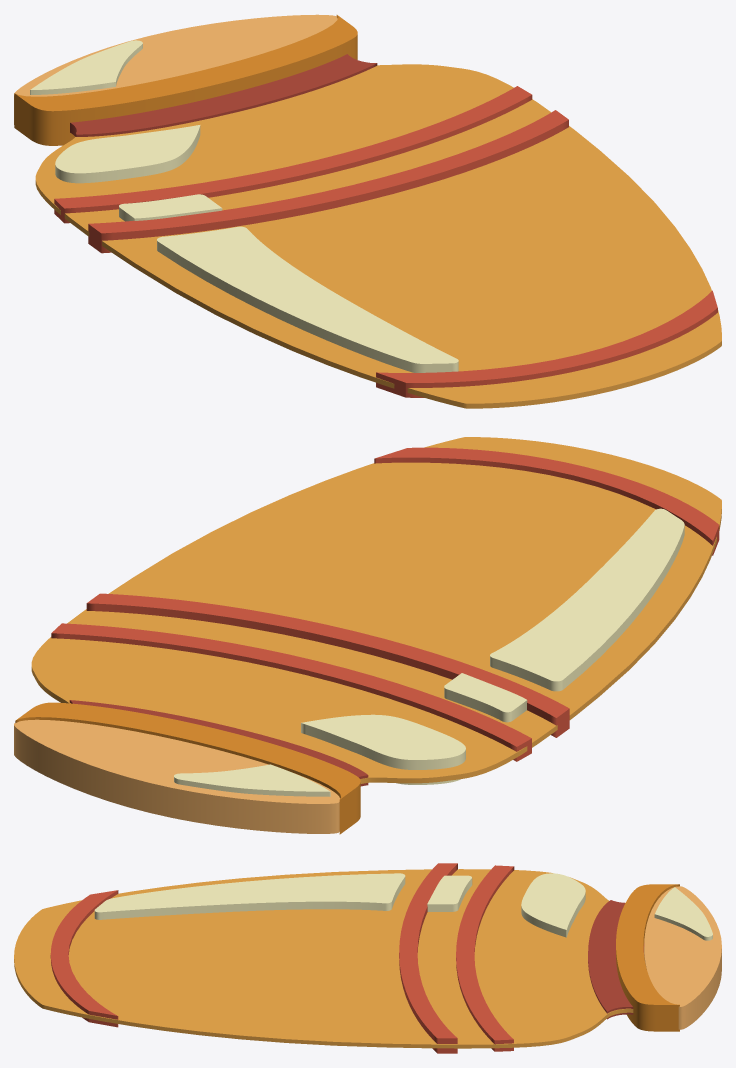
File: emoji_u26b1.glb
The picture shows the model from 3 angles, top to bottom: view 1: azimuth 30°, elevation 25°; view 2: azimuth 150°, elevation 25°; view 3: azimuth 270°, elevation 25°; orthographic projection. The views are drawn at different scales.
Parts seen in each view (by area): view 1: emoji_u26b1; view 2: emoji_u26b1; view 3: emoji_u26b1.
Part boxes in pixels (x1,y1,x2,y2): emoji_u26b1: (14,14,721,408); emoji_u26b1: (14,437,721,834); emoji_u26b1: (14,863,721,1053).
Size of the model in its own units: 0.0198 by 0.0016 by 0.0337.
